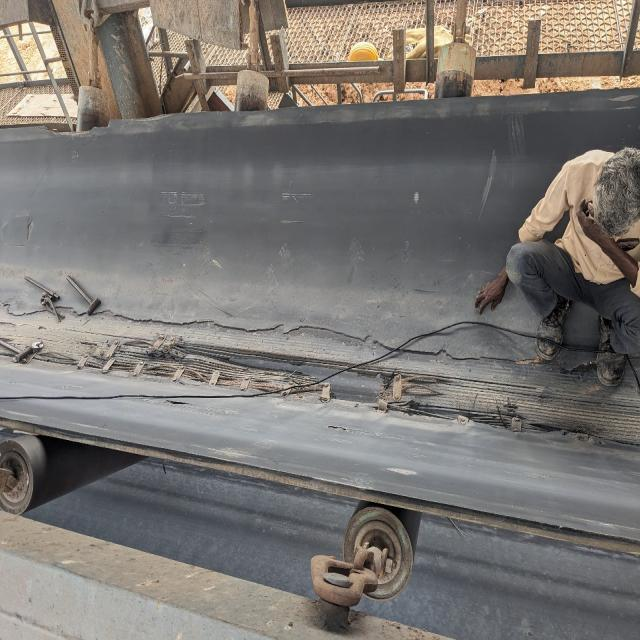Tear: (0, 296, 638, 458)
